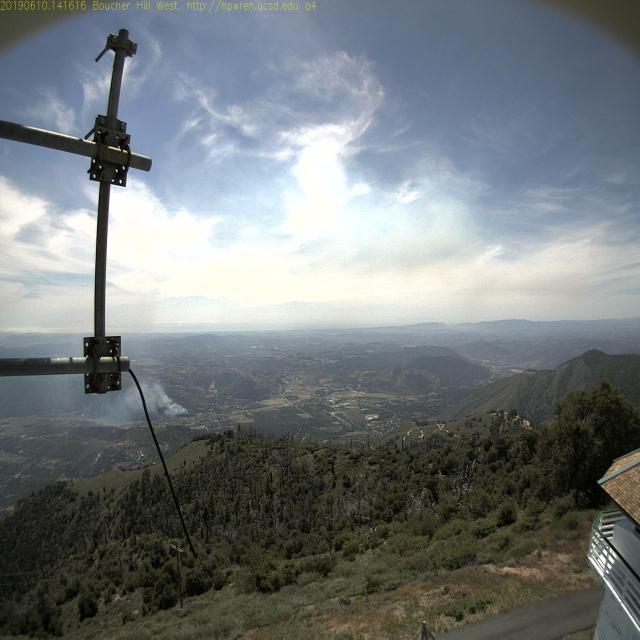smoke: (175, 394, 200, 424)
